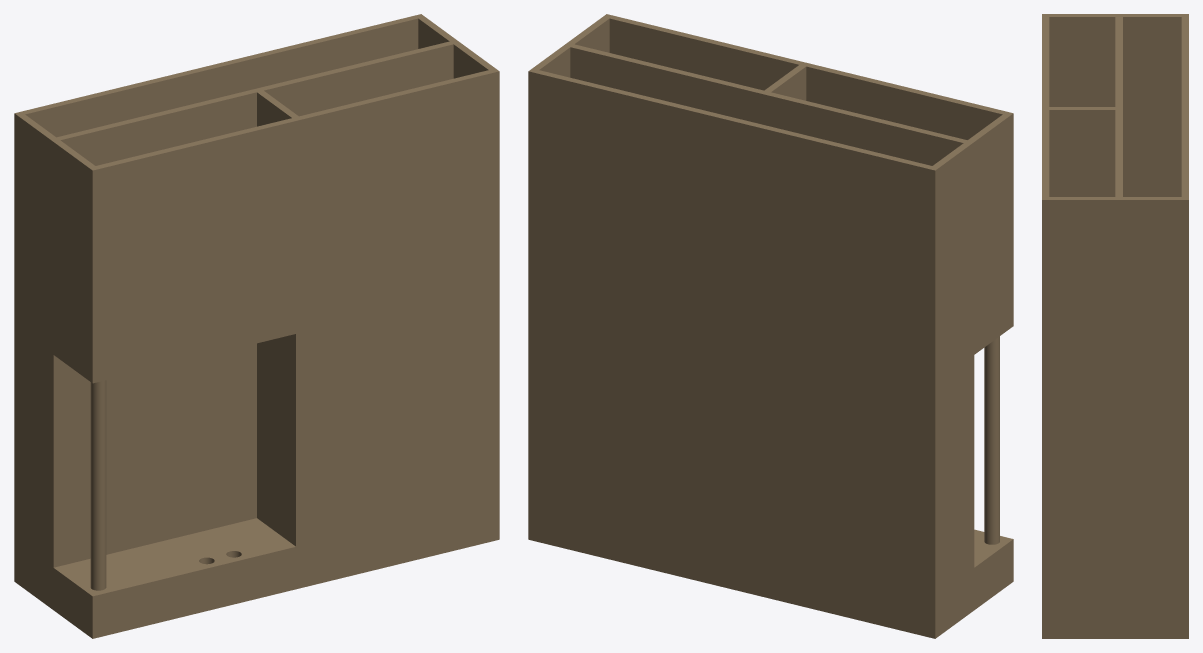
The model's file is example4.glb.
The picture shows the model from 3 angles, left to right: view 1: azimuth 30°, elevation 25°; view 2: azimuth 150°, elevation 25°; view 3: azimuth 270°, elevation 25°; orthographic projection. The views are drawn at different scales.
Visible parts, largest first — view 1: example4, example4001; view 2: example4, example4001; view 3: example4, example4001.
Part boxes in pixels (x1,y1,x2,y2): example4: (14,14,499,590); example4001: (14,497,499,638); example4: (528,14,1013,596); example4001: (528,497,1013,638); example4: (1042,14,1188,598); example4001: (1042,599,1188,638).
Size of the model in its own units: 0.9 by 1.01 by 0.3.
